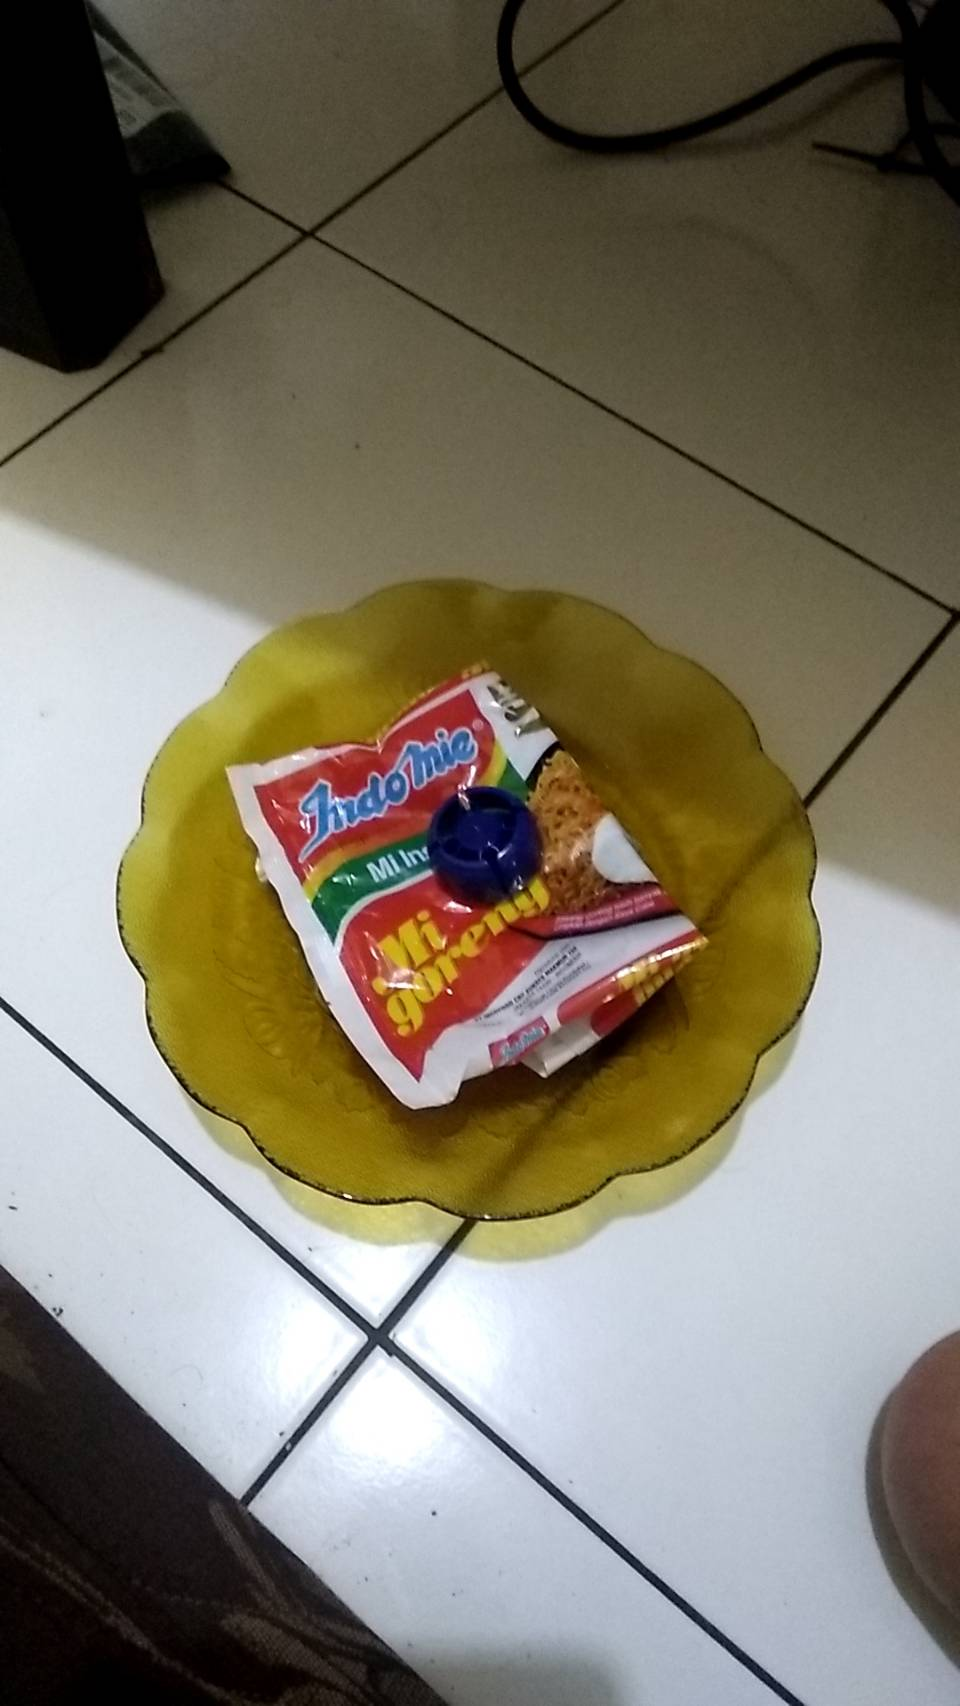piring: (116, 576, 821, 1227)
